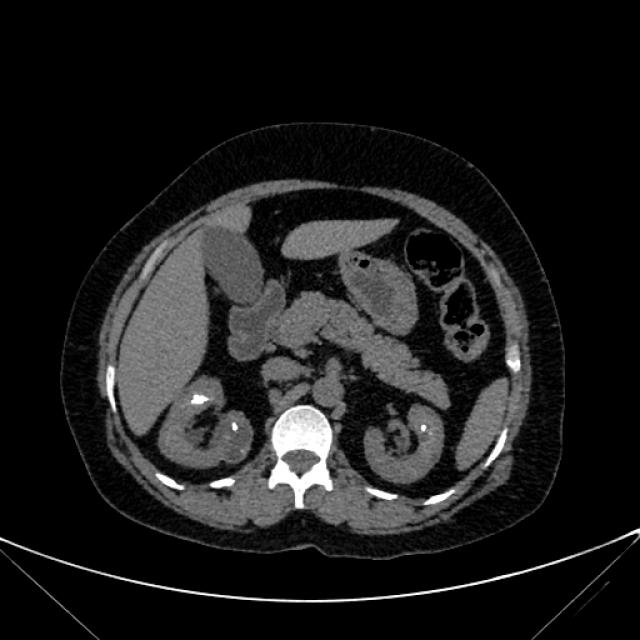kidney: (156, 371, 256, 470), (360, 403, 447, 488)
stone: (188, 393, 208, 407), (418, 421, 429, 433), (228, 418, 238, 431)
